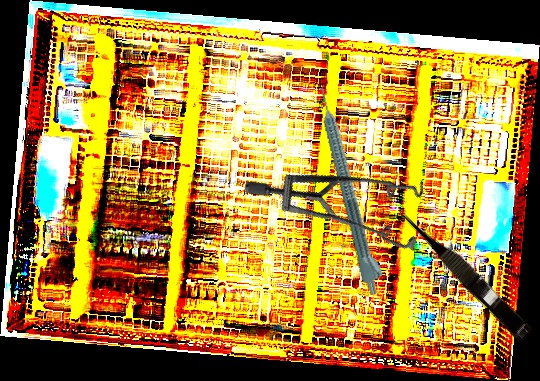Handpiece: (314, 83, 389, 297)
Micro Scissor: (393, 200, 537, 345)
Speculum: (241, 94, 453, 304)
